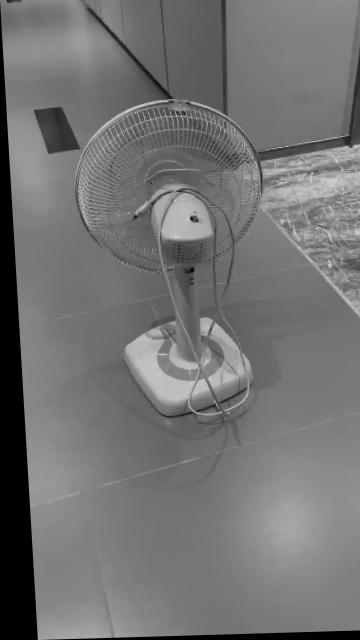Fan: (72, 100, 260, 420)
